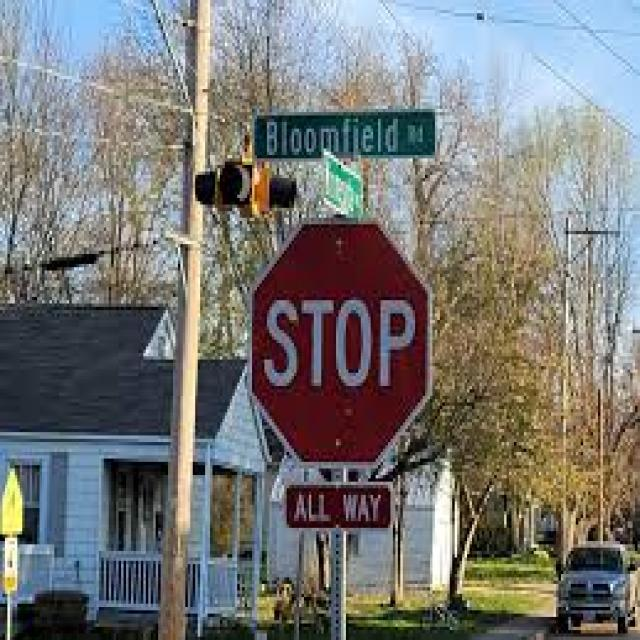stop-sign: (250, 196, 484, 519)
